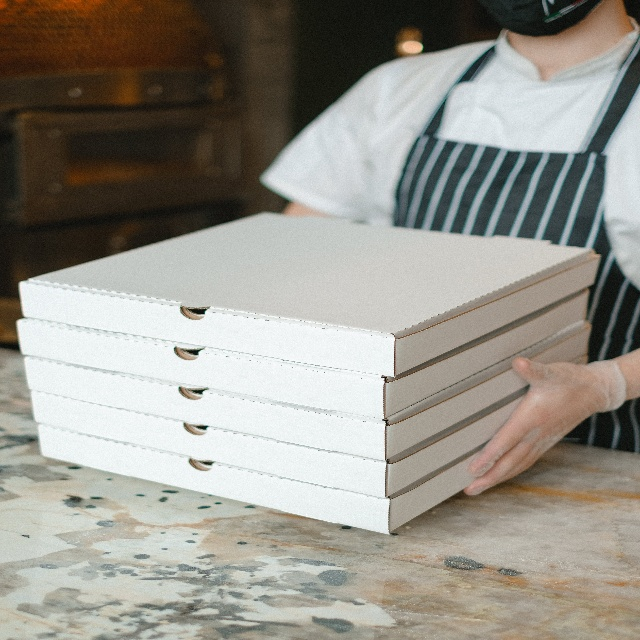Guantes: (463, 349, 628, 500)
Mascara: (497, 0, 604, 38)
Sin_guantes: (463, 350, 602, 496)
